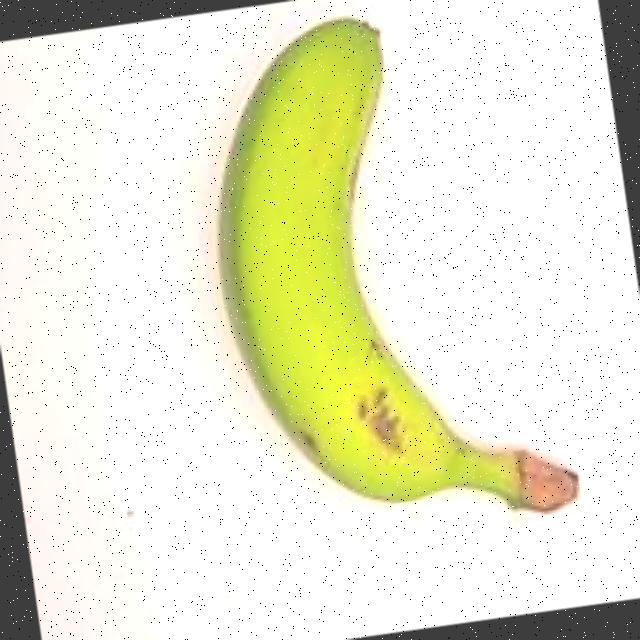Unripe: (136, 0, 625, 593)
